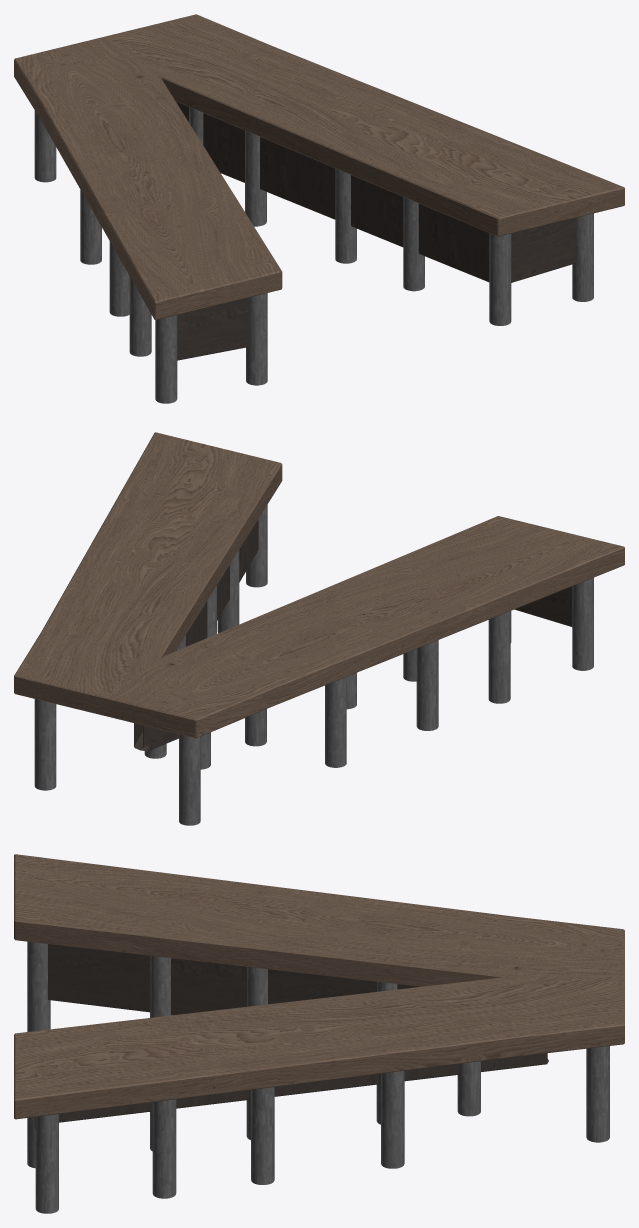
The model's file is SM_confrenceTable.glb.
The picture shows the model from 3 angles, top to bottom: view 1: azimuth 30°, elevation 25°; view 2: azimuth 150°, elevation 25°; view 3: azimuth 270°, elevation 25°; orthographic projection. The views are drawn at different scales.
Parts seen in each view (by area): view 1: Cylinder.002; view 2: Cylinder.002; view 3: Cylinder.002.
Part boxes in pixels (bbox=[...]): Cylinder.002: bbox=[14, 14, 624, 403]; Cylinder.002: bbox=[14, 432, 624, 825]; Cylinder.002: bbox=[14, 854, 624, 1213].
Bounding box in the file's own units: 0.277 × 0.0647 × 0.2907.
1 material, 1 textured.
